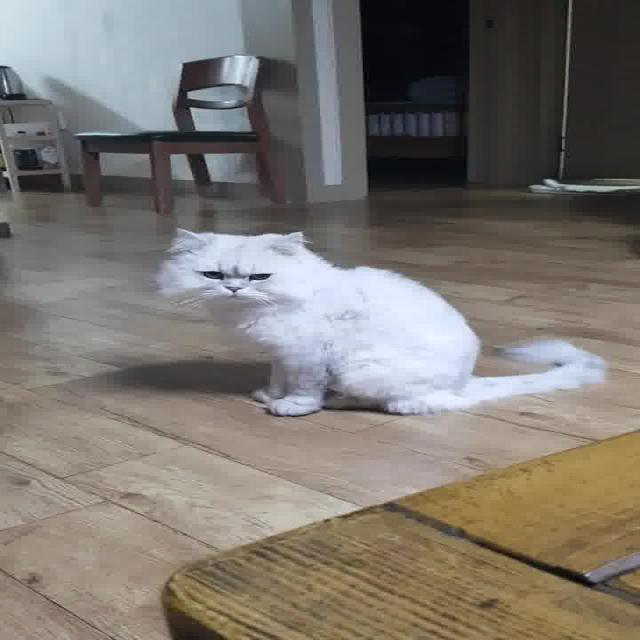cat: (107, 217, 637, 433)
